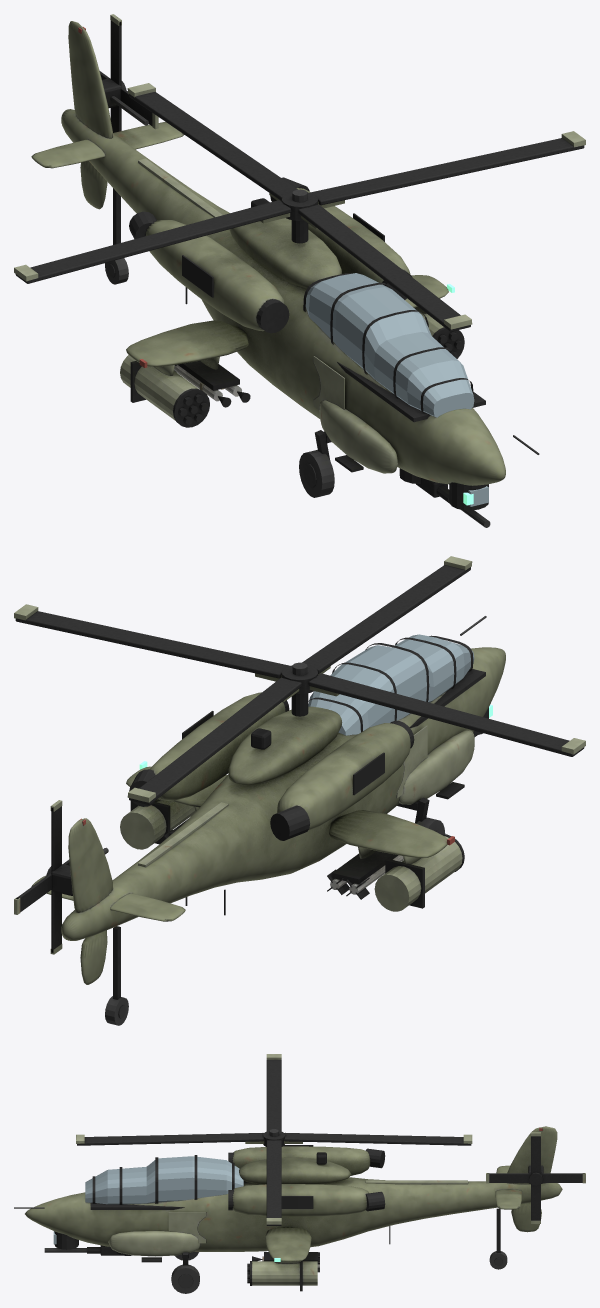
The model's file is heli.glb.
3 views of the same model, one above another, from view 1: azimuth 30°, elevation 25°; view 2: azimuth 150°, elevation 25°; view 3: azimuth 270°, elevation 25° (orthographic). The views are drawn at different scales.
Parts seen in each view (by area): view 1: Shell_m, Blade_001_m, Canopy, Blade_002_m; view 2: Shell_m, Blade_001_m, Canopy, Blade_002_m; view 3: Shell_m, Blade_001_m, Canopy, Blade_002_m.
Boxes of the visible parts, x1,y1,x2,y2 form: Shell_m: [31, 21, 539, 527]; Blade_001_m: [14, 83, 585, 331]; Canopy: [305, 273, 474, 417]; Blade_002_m: [99, 14, 158, 132]; Shell_m: [31, 616, 505, 1025]; Blade_001_m: [14, 556, 585, 804]; Canopy: [308, 634, 474, 735]; Blade_002_m: [14, 800, 69, 954]; Shell_m: [14, 1126, 562, 1293]; Blade_001_m: [76, 1054, 472, 1225]; Canopy: [85, 1156, 243, 1204]; Blade_002_m: [486, 1132, 585, 1223].
Bounding box in the file's own units: 11.65 × 4.92 × 16.82.
5 materials, 3 textured.
